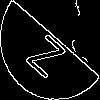Z: (25, 24, 73, 80)
